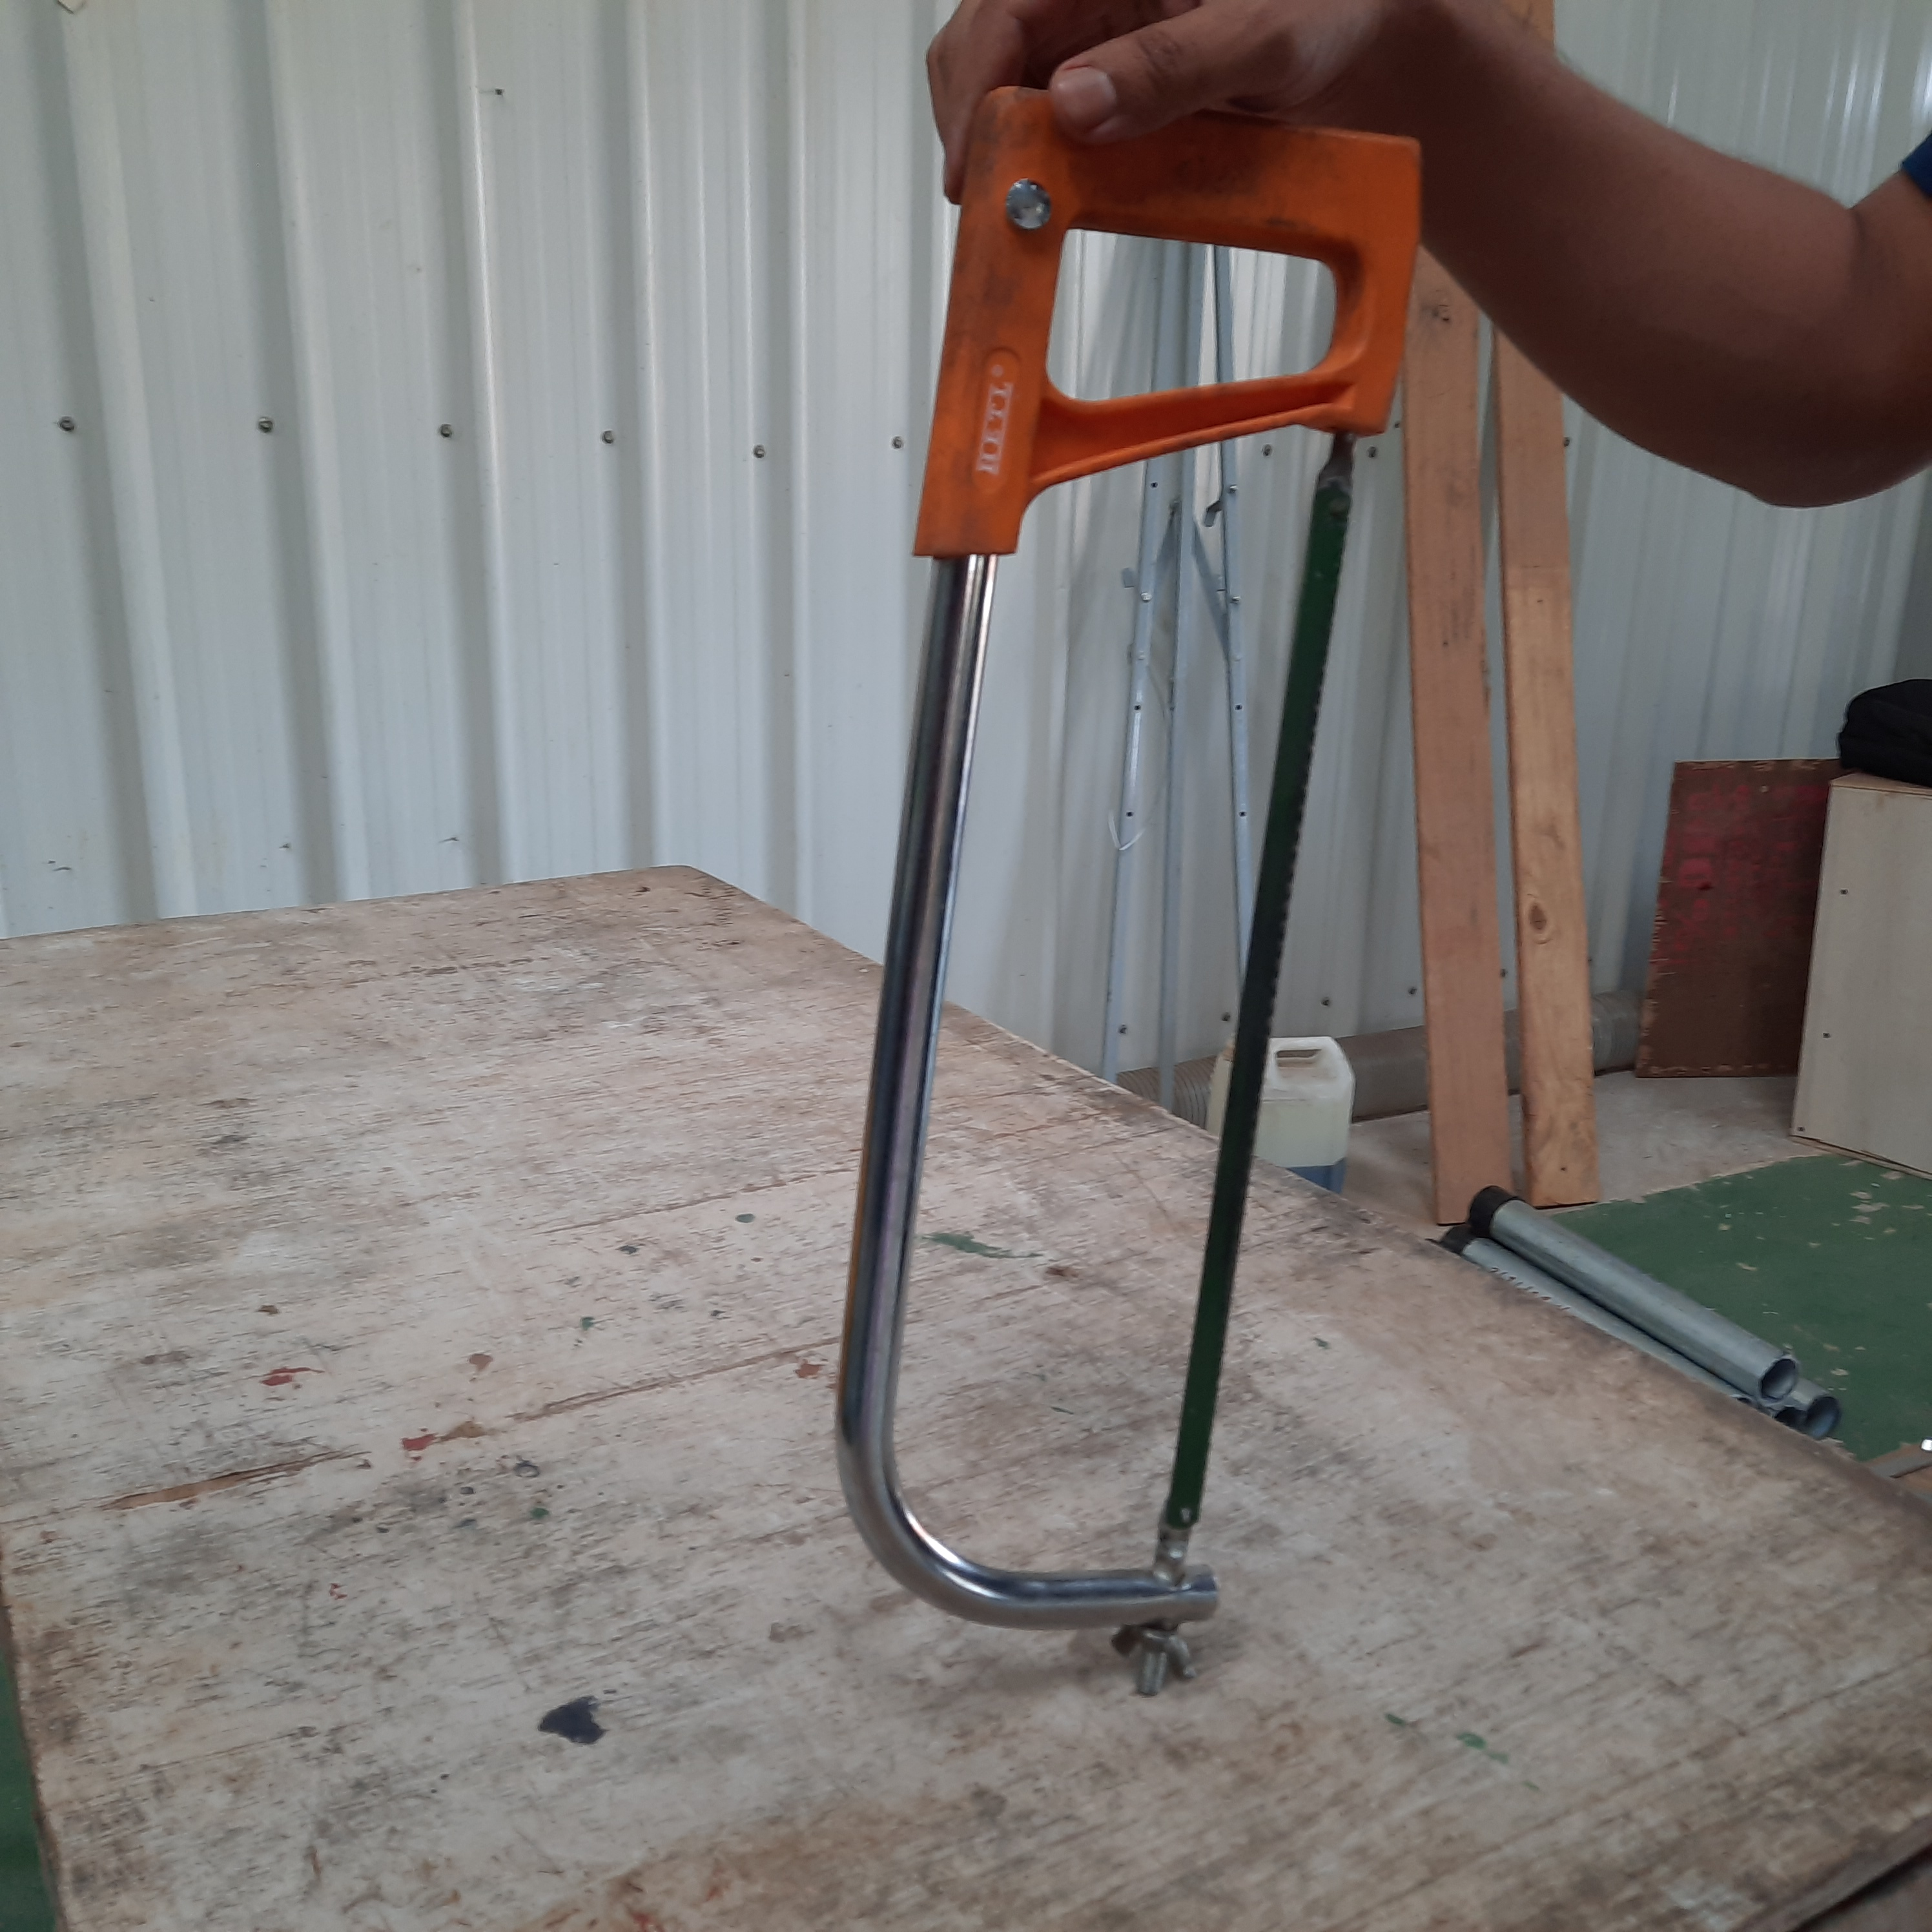Hexaframe: (823, 41, 1405, 1835)
